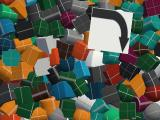Right: (87, 7, 133, 54)
